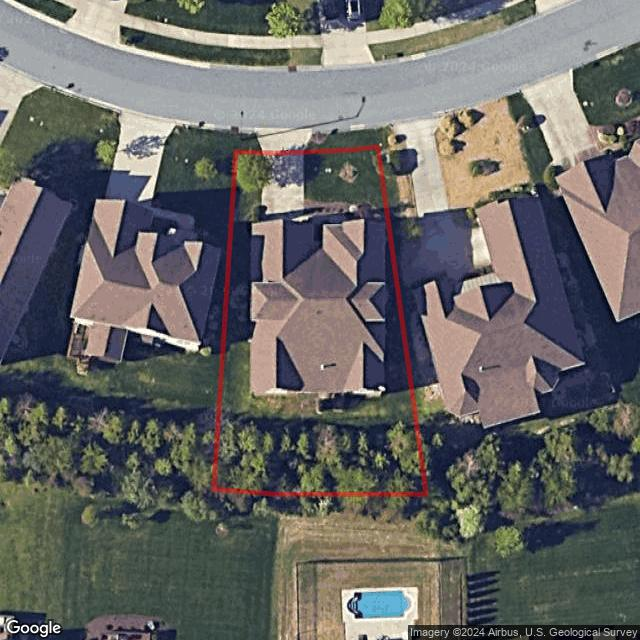Driveway: (258, 151, 304, 222)
Extra-Driveway: (254, 133, 313, 151)
Extra-Lawn: (302, 129, 378, 153), (235, 133, 262, 154)
House: (251, 220, 388, 398)
Lawn: (213, 147, 427, 495)
Other: (215, 419, 427, 494), (316, 396, 361, 413)
Sidewalk: (304, 198, 364, 220), (304, 210, 344, 222)
